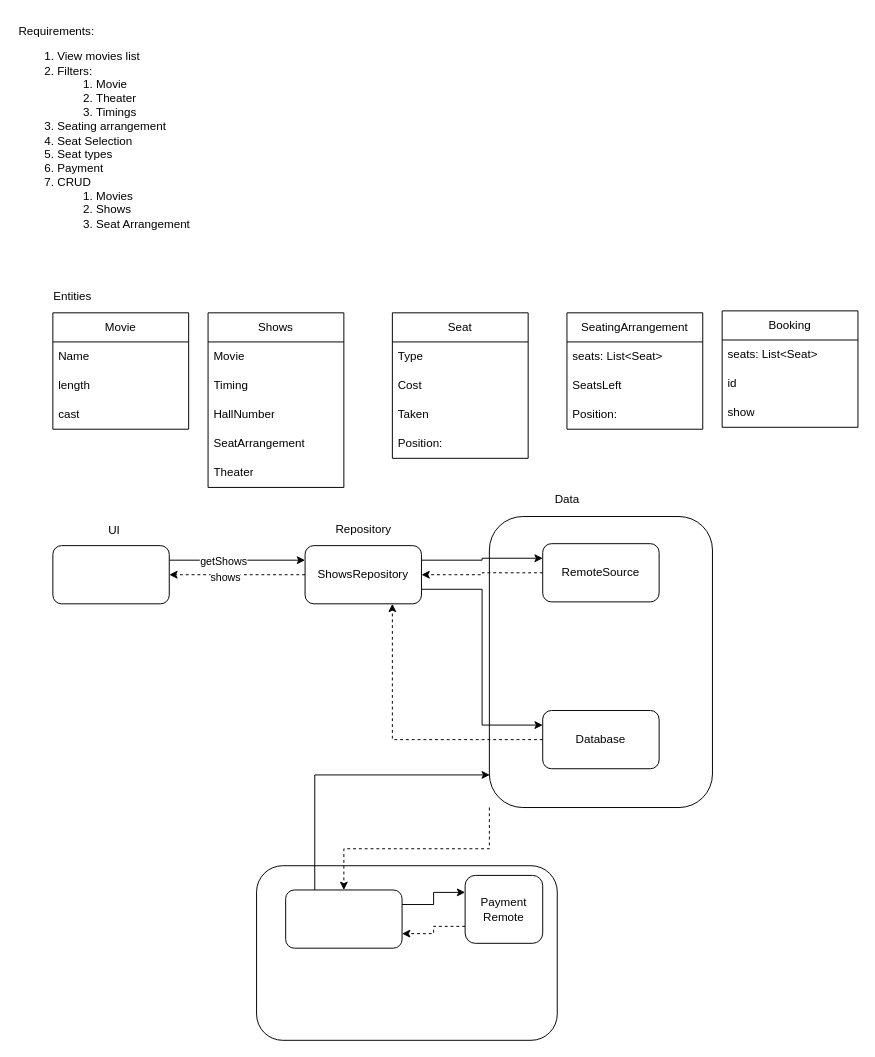
Some shapes in this 875 by 1057 pixel diagram are drawn without their labels. The centre of each missing label's shape, as x and y in pixels:
"BookingHelper" belongs at pixel 343 918.
"MoviewList" belongs at pixel 110 574.
